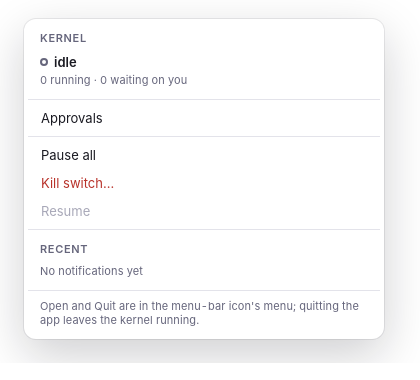
Test: the commands › AC2: once GET /status says paused, the panel and the commands say Unpause, which sends POST /unpause
Click the button "Pause all".
click(68, 155)  # box [28,141,380,169]
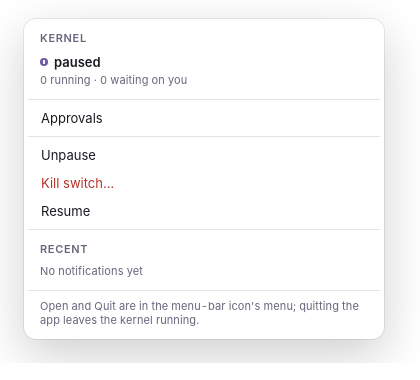
Expected: the text "paused" is shown, [54,53,101,71]
Click the button "Unpause".
click(68, 155)  # box [28,141,380,169]
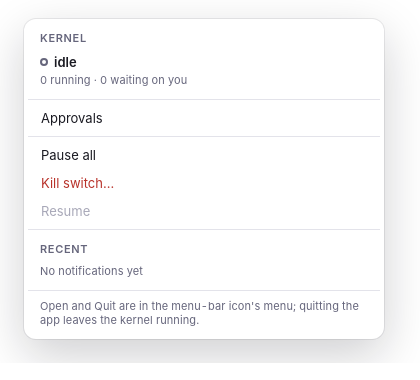
Expected: the text "idle" is shown, [54,53,77,71]
